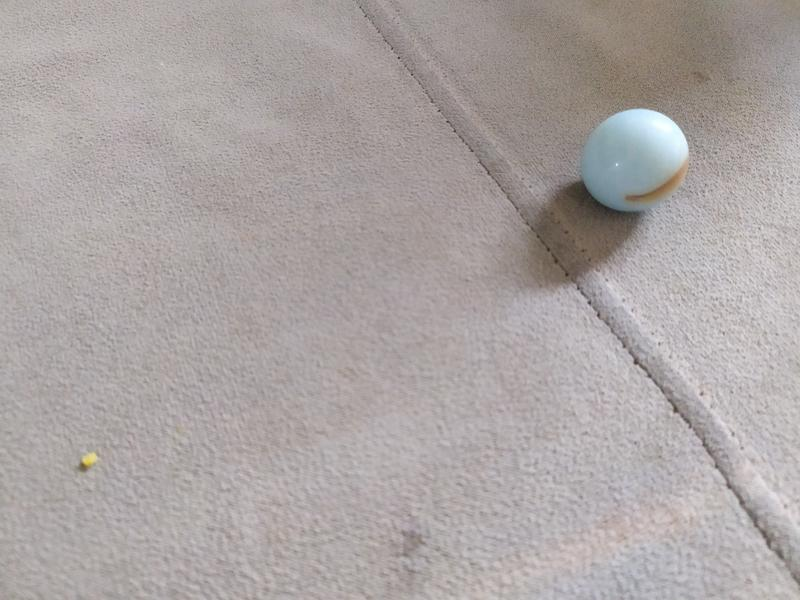Warning: (578, 105, 693, 215)
